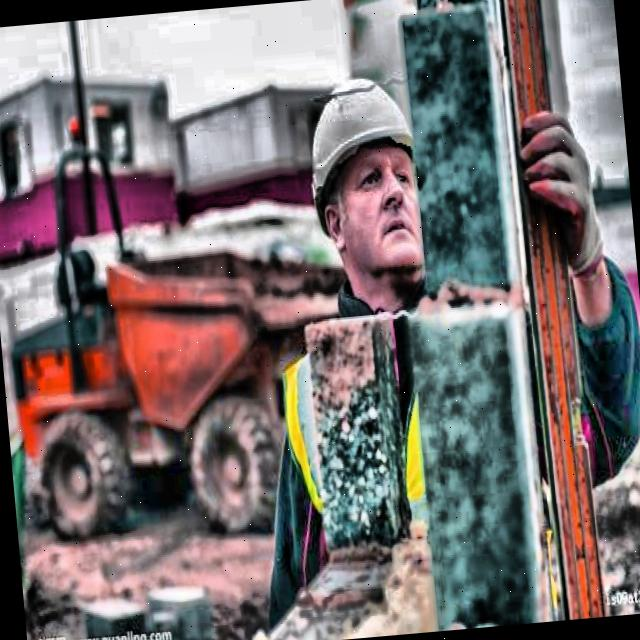helmet: (282, 50, 442, 323)
